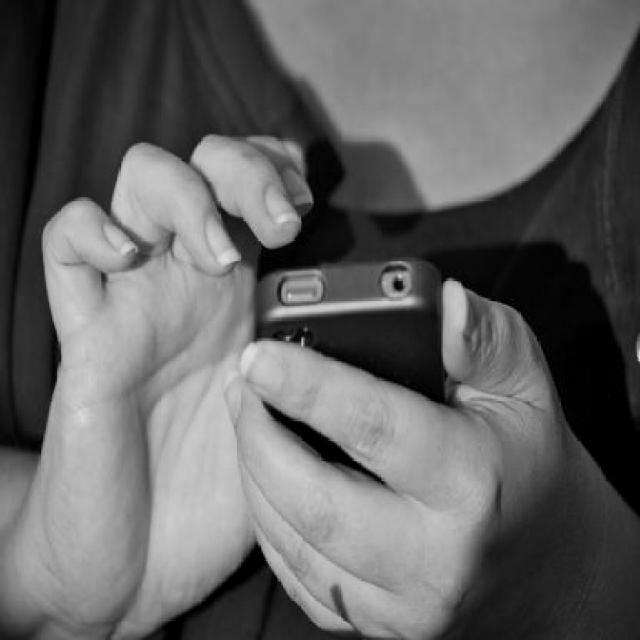fake: (252, 264, 450, 480)
